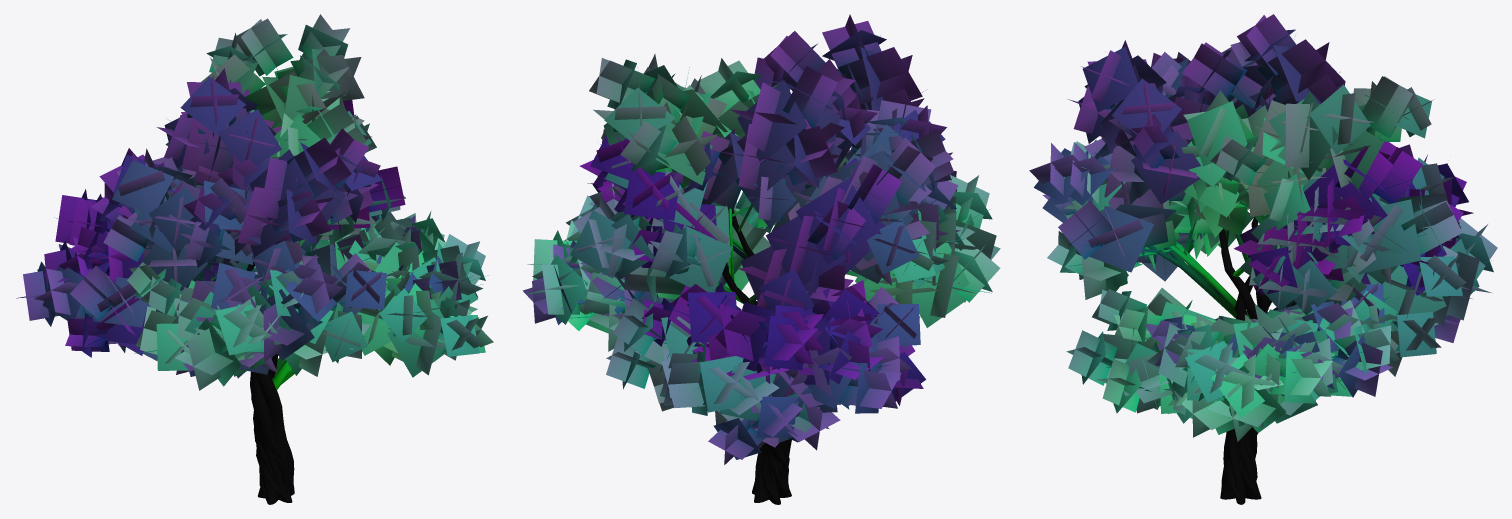
File: tree 1.fbx
3 renders of one model, left to right at view 1: azimuth 30°, elevation 25°; view 2: azimuth 150°, elevation 25°; view 3: azimuth 270°, elevation 25°, orthographic. The views are drawn at different scales.
Parts seen in each view (by area): view 1: Tree_1, Tree_0; view 2: Tree_1, Tree_0; view 3: Tree_1, Tree_0.
Boxes of the visible parts, left/top/right/bottom form: Tree_1: left=16, top=14, right=493, bottom=390; Tree_0: left=46, top=56, right=488, bottom=504; Tree_1: left=523, top=14, right=1000, bottom=464; Tree_0: left=541, top=35, right=991, bottom=504; Tree_1: left=1029, top=14, right=1497, bottom=441; Tree_0: left=1068, top=72, right=1493, bottom=504.
Bounding box in the file's own units: 375 × 396 × 369.
